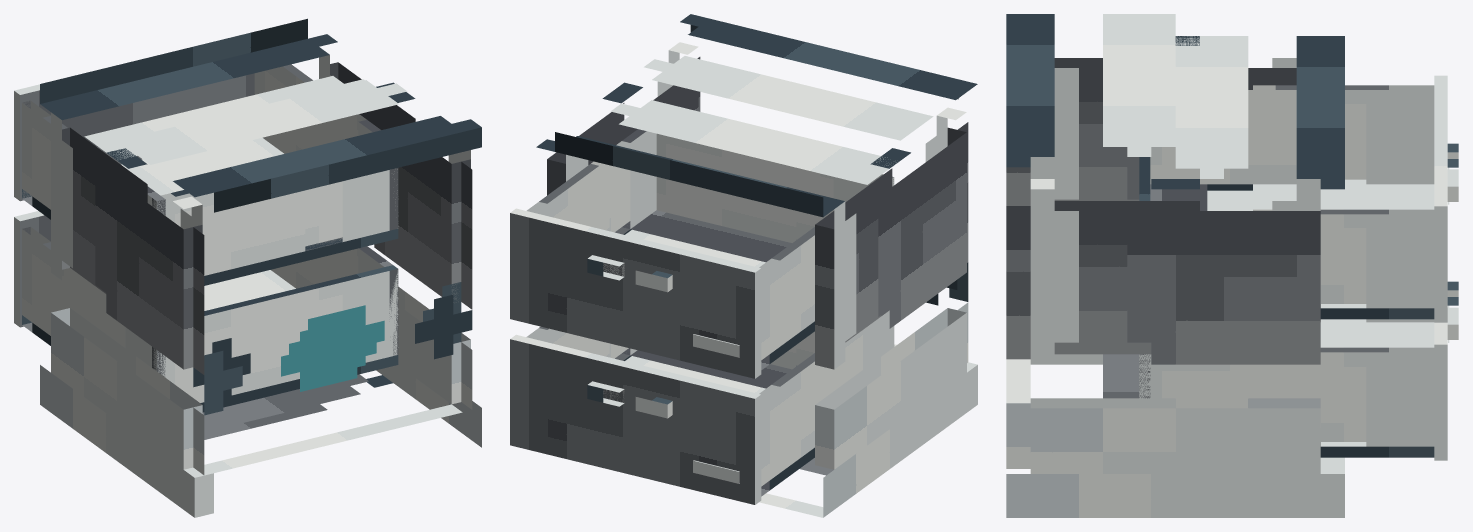
The model's file is lab_freezer_open.obj.
3 views of the same model, side by side, from view 1: azimuth 30°, elevation 25°; view 2: azimuth 150°, elevation 25°; view 3: azimuth 270°, elevation 25° (orthographic). The views are drawn at different scales.
Size of the model in its own units: 0.9375 by 1 by 1.17.
